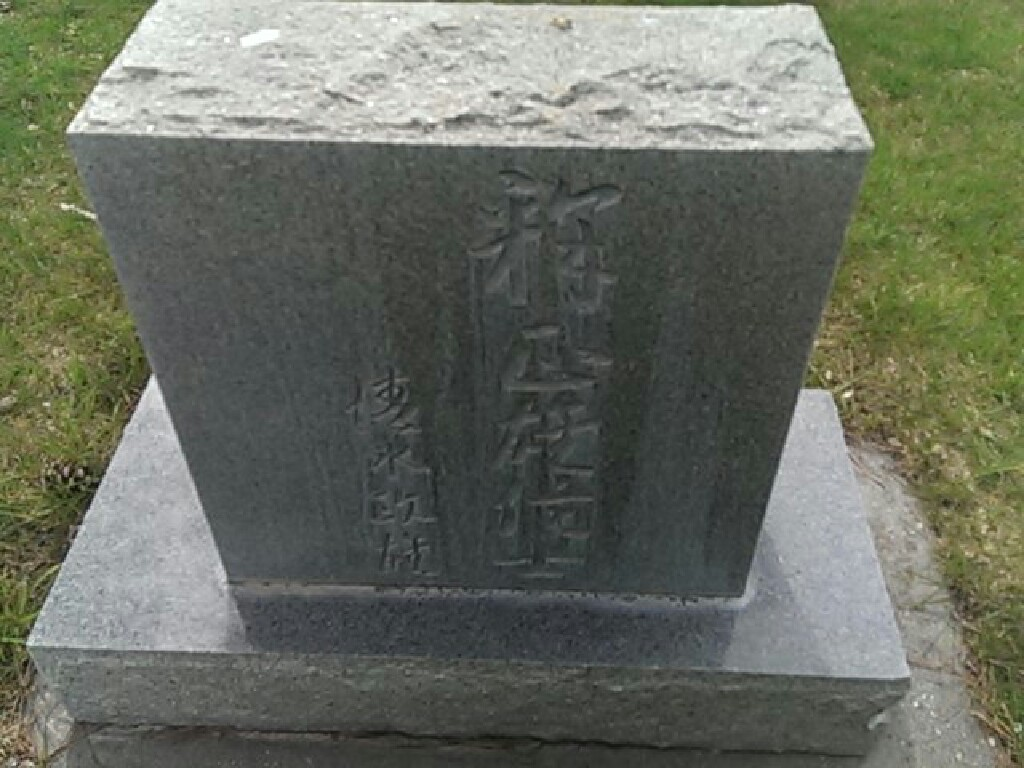upright: (0, 0, 916, 767)
